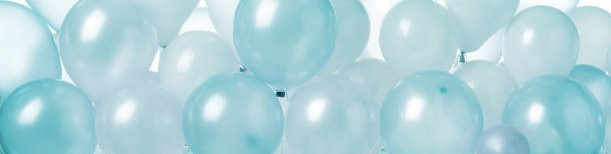Balloon: (61, 1, 156, 95), (378, 70, 483, 154), (232, 1, 334, 85), (501, 74, 605, 154), (184, 74, 284, 154), (1, 80, 96, 154), (284, 82, 379, 154), (96, 77, 184, 154), (503, 6, 579, 85), (1, 1, 59, 98), (381, 1, 459, 70)
